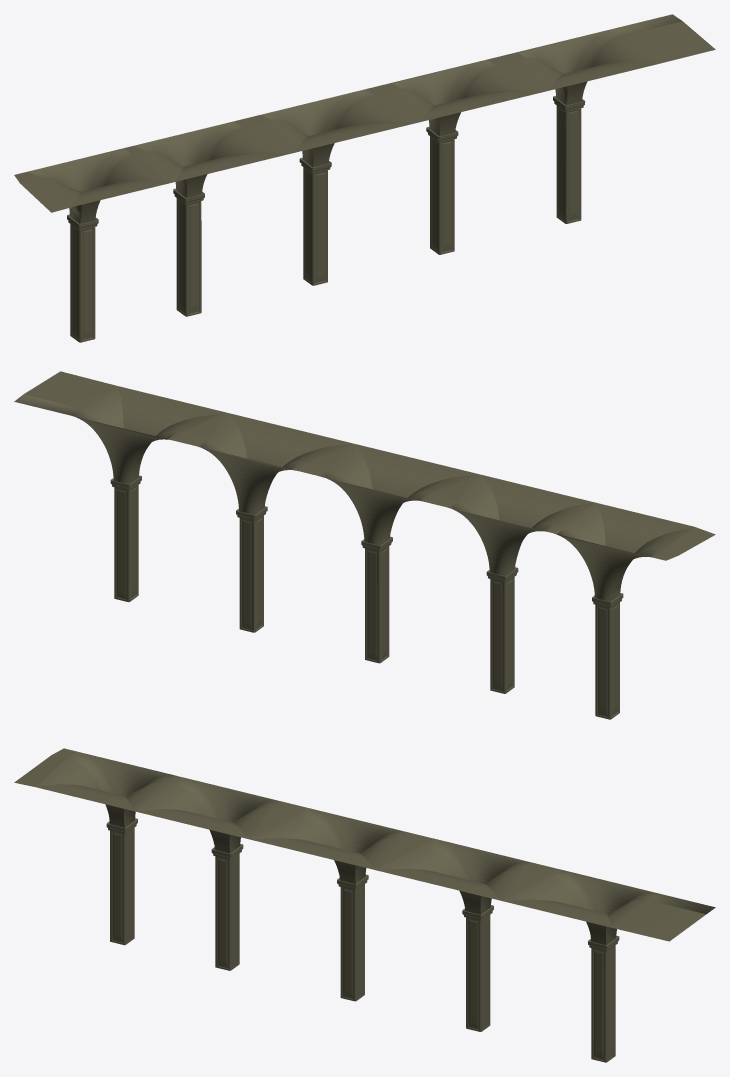
File: 2nd floor pillars.fbx
3 views of the same model, one above another, from view 1: azimuth 30°, elevation 25°; view 2: azimuth 150°, elevation 25°; view 3: azimuth 330°, elevation 25° (orthographic).
Parts seen in each view (by area): view 1: Cube.042; view 2: Cube.042; view 3: Cube.042.
Boxes of the visible parts, x1,y1,x2,y2 form: Cube.042: (14, 14, 715, 342); Cube.042: (14, 371, 715, 719); Cube.042: (14, 748, 715, 1062).
Size of the model in its own units: 25679 by 6437 by 3112.
